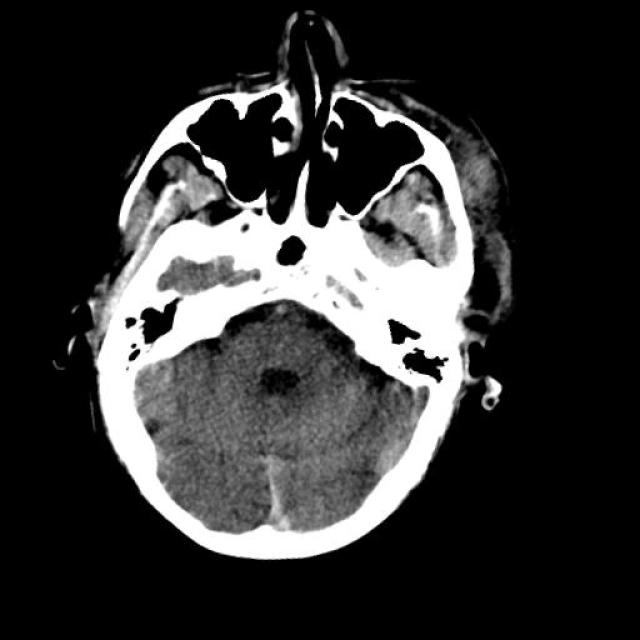Subdural: (212, 431, 322, 553)
